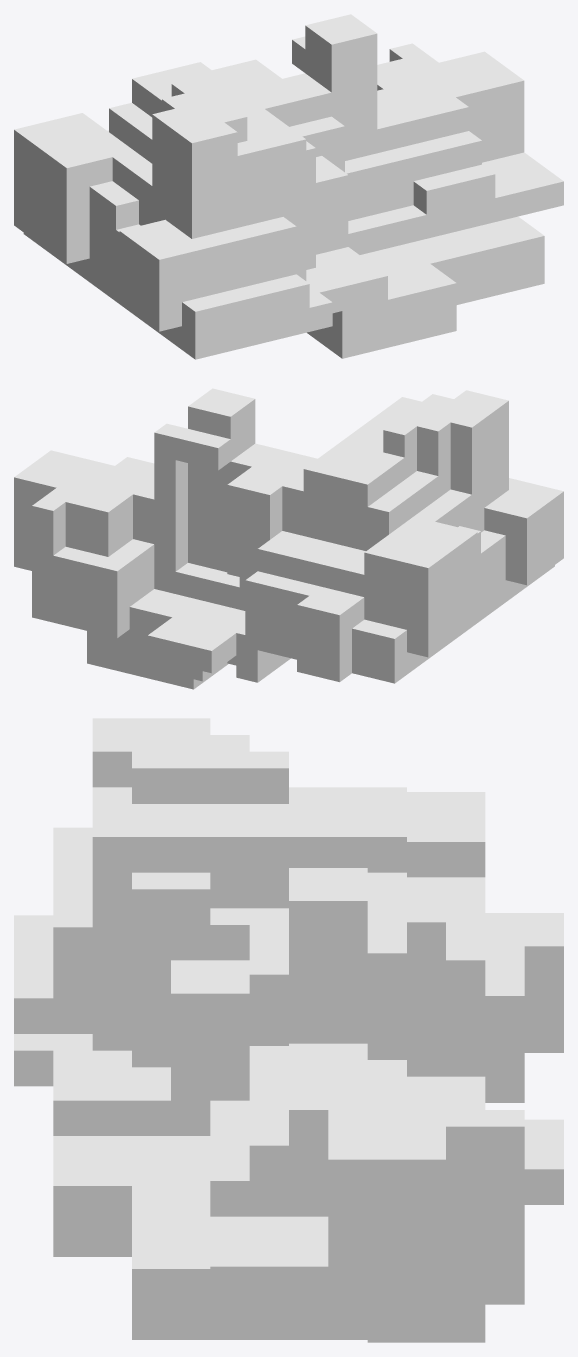
File: cloud_03.obj
The picture shows the model from 3 angles, top to bottom: view 1: azimuth 30°, elevation 25°; view 2: azimuth 150°, elevation 25°; view 3: azimuth 270°, elevation 25°; orthographic projection. The views are drawn at different scales.
Size of the model in its own units: 20 by 11 by 14.
Materials: 1 (1 with a texture image).
